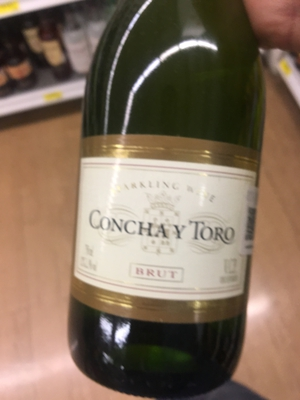brut: (74, 10, 269, 377)
